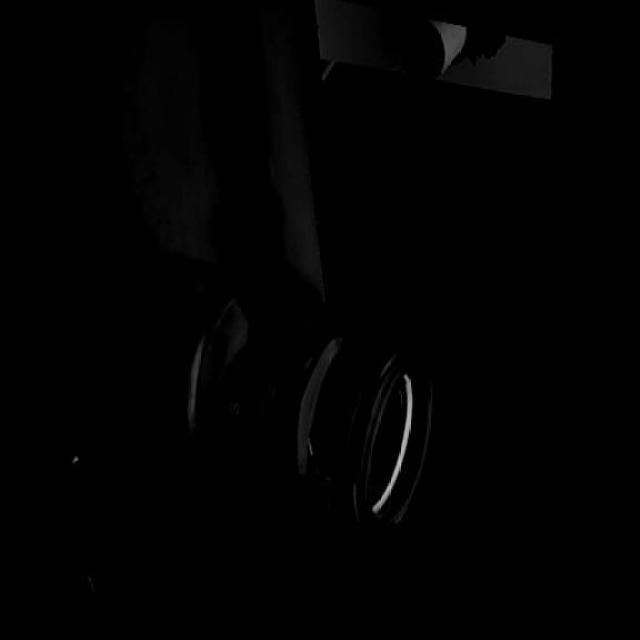defect: (301, 433, 325, 475)
glass: (179, 280, 445, 548)
